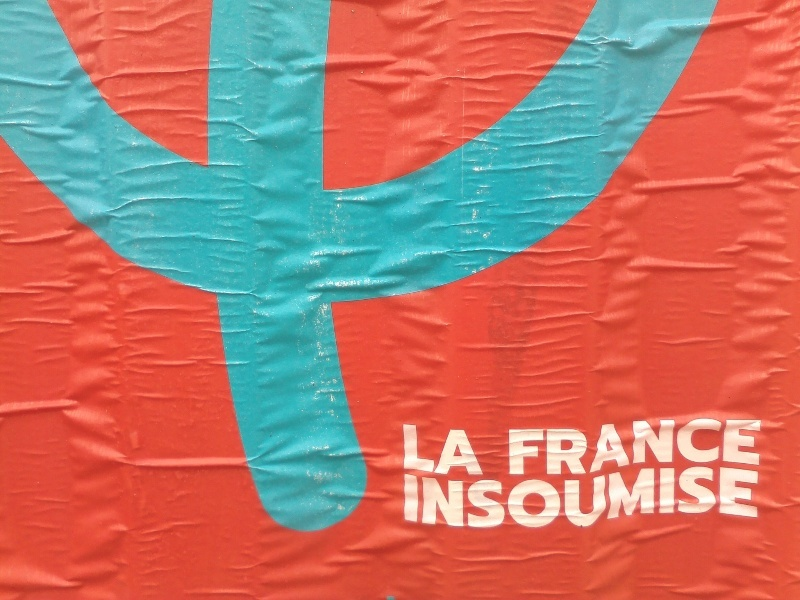text: (417, 465, 432, 531), (433, 465, 448, 531), (449, 465, 464, 531), (465, 465, 480, 531), (481, 465, 496, 531), (497, 465, 512, 531), (513, 465, 528, 531), (529, 465, 544, 531), (545, 465, 560, 531), (561, 465, 576, 531), (577, 465, 592, 531), (593, 465, 608, 531), (609, 465, 624, 531), (625, 465, 640, 531), (641, 465, 656, 531), (657, 465, 672, 531), (673, 465, 688, 531), (689, 465, 704, 531), (705, 465, 720, 531), (721, 465, 736, 531), (737, 465, 752, 531), (513, 415, 528, 478), (529, 415, 544, 478), (545, 415, 560, 478), (561, 415, 576, 478), (577, 415, 592, 478), (593, 415, 608, 478), (609, 415, 624, 478), (625, 415, 640, 478), (641, 415, 656, 478), (657, 415, 672, 478), (673, 415, 688, 478), (689, 415, 704, 478), (705, 415, 720, 478), (721, 415, 736, 478), (737, 415, 752, 478), (403, 465, 416, 531), (401, 424, 416, 477), (417, 424, 432, 477), (433, 424, 448, 477), (449, 424, 464, 477), (465, 424, 480, 477), (753, 415, 763, 478), (753, 465, 761, 531), (506, 415, 512, 478), (481, 424, 487, 477)
